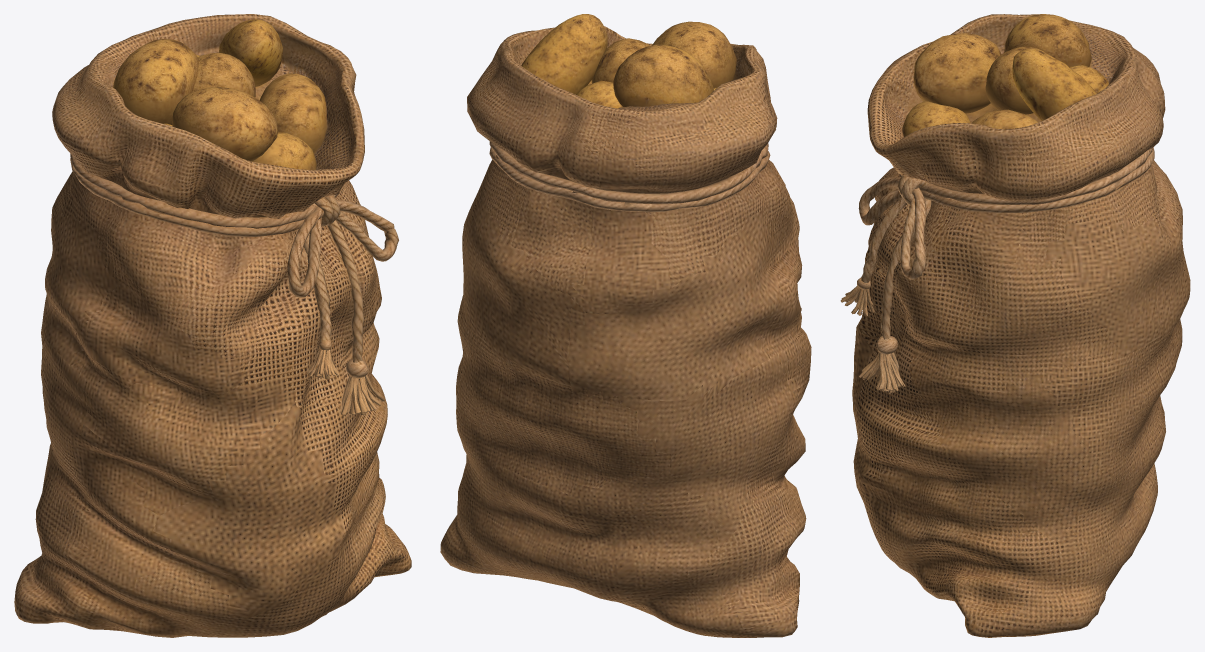
File: perunasakki_meshy.glb
3 renders of one model, left to right at view 1: azimuth 30°, elevation 25°; view 2: azimuth 150°, elevation 25°; view 3: azimuth 270°, elevation 25°, orthographic. The views are drawn at different scales.
Bounding box in the file's own units: 0.6008 × 0.9 × 0.5384.
Materials: 1 (1 with a texture image).
